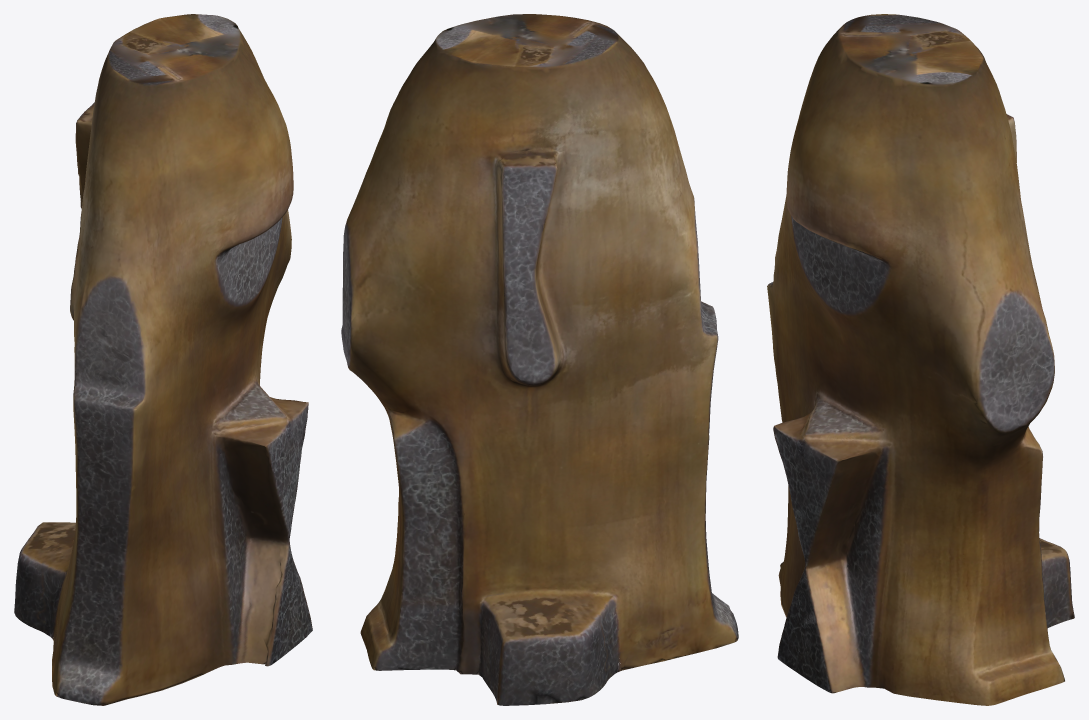
File: shah-tirthankar.glb
The picture shows the model from 3 angles, left to right: view 1: azimuth 30°, elevation 25°; view 2: azimuth 150°, elevation 25°; view 3: azimuth 270°, elevation 25°; orthographic projection. The views are drawn at different scales.
Parts seen in each view (by area): view 1: SculptureA_Low; view 2: SculptureA_Low; view 3: SculptureA_Low.
Boxes of the visible parts, <box> form: SculptureA_Low: <box>14,14,312,705</box>; SculptureA_Low: <box>341,14,738,705</box>; SculptureA_Low: <box>767,14,1074,705</box>.
Bounding box in the file's own units: 0.2796 × 0.5 × 0.2345.
Materials: 1 (1 with a texture image).
